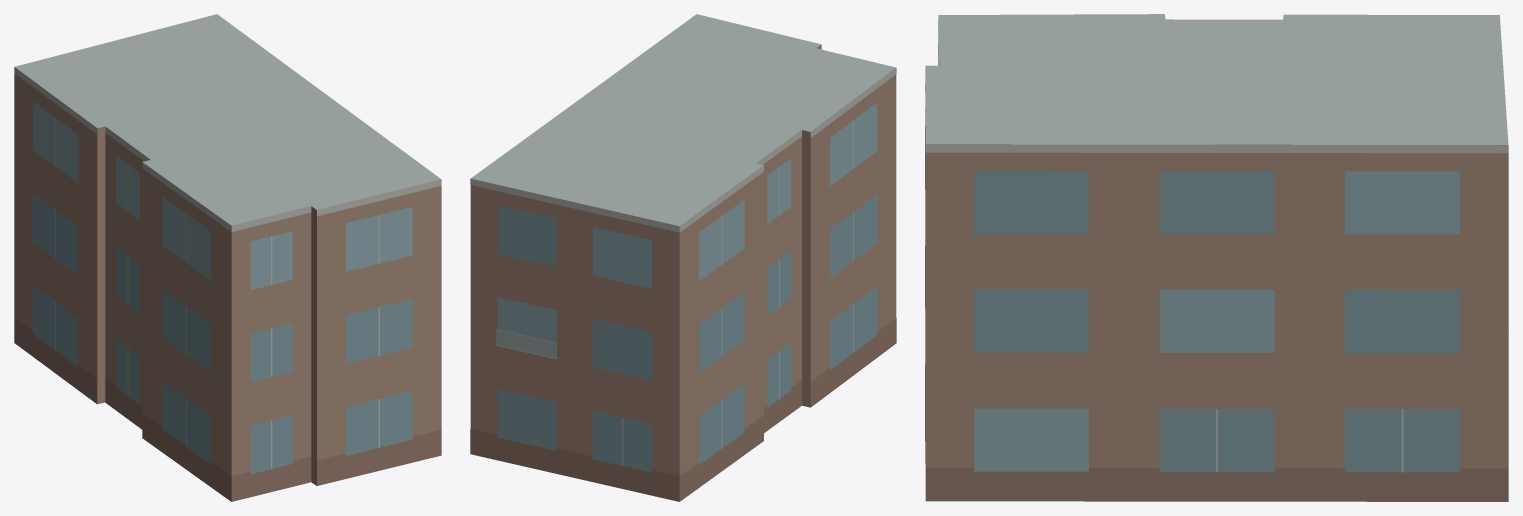
Rendered from survey-upis-32738126.glb.
3 renders of one model, left to right at view 1: azimuth 30°, elevation 25°; view 2: azimuth 150°, elevation 25°; view 3: azimuth 270°, elevation 25°, orthographic. The views are drawn at different scales.
Parts seen in each view (by area): view 1: survey-upis-32738126.tmp; view 2: survey-upis-32738126.tmp; view 3: survey-upis-32738126.tmp.
Part boxes in pixels (x1,y1,x2,y2): survey-upis-32738126.tmp: (14, 14, 441, 501); survey-upis-32738126.tmp: (470, 14, 896, 501); survey-upis-32738126.tmp: (925, 14, 1508, 501).
Bounding box in the file's own units: 8.28 × 10.5 × 15.57.
